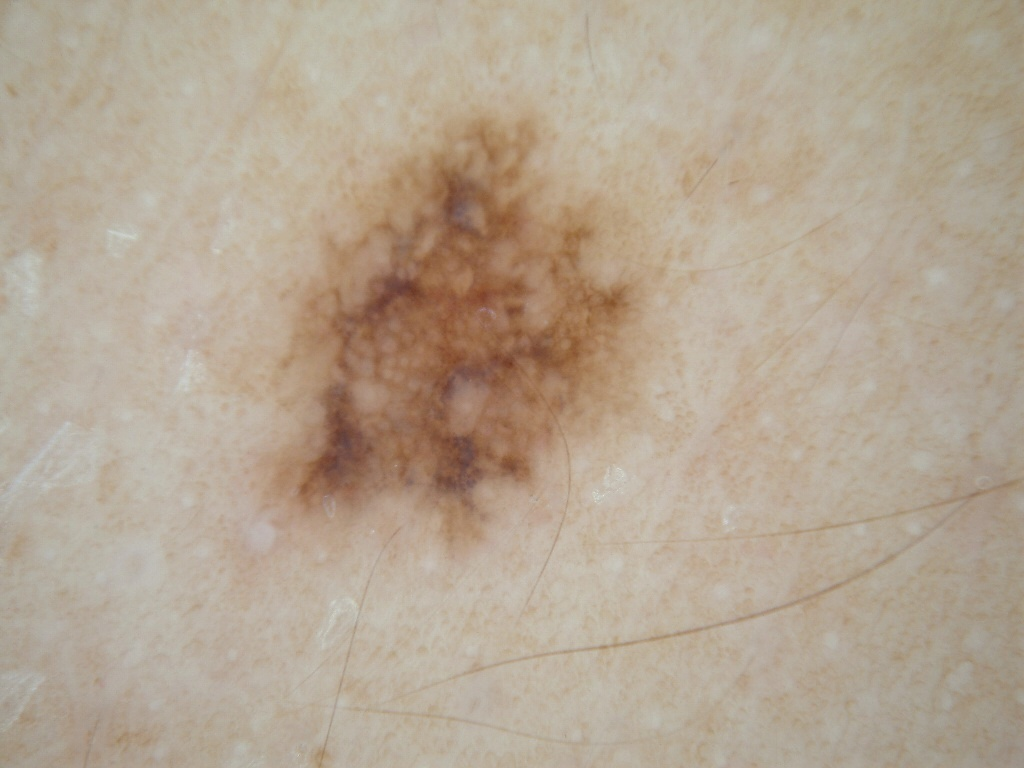Detected Lesion: (263, 110, 640, 555)
